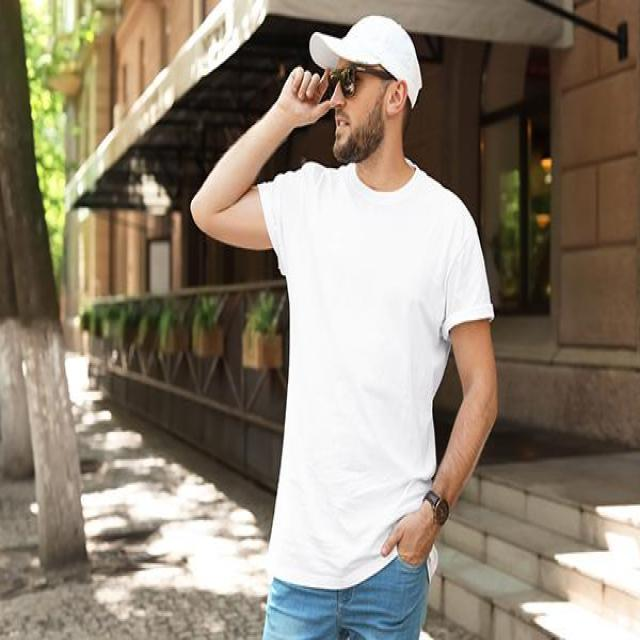3_gorra: (309, 15, 423, 87)
